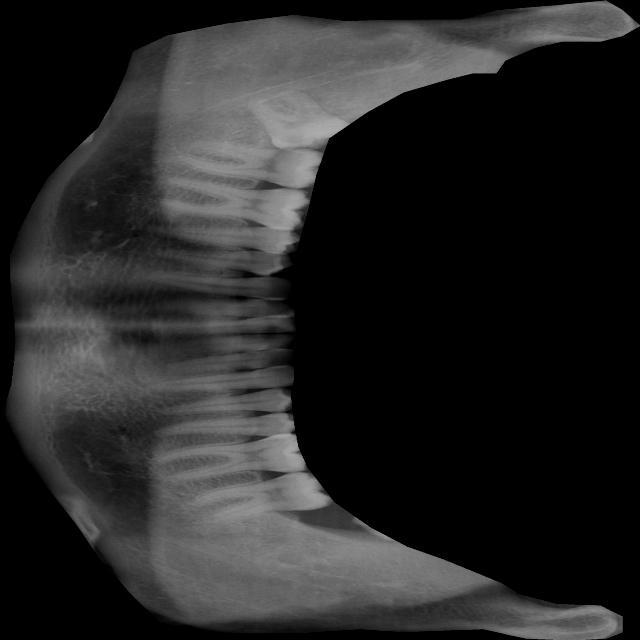mandibula: (0, 0, 640, 640)
